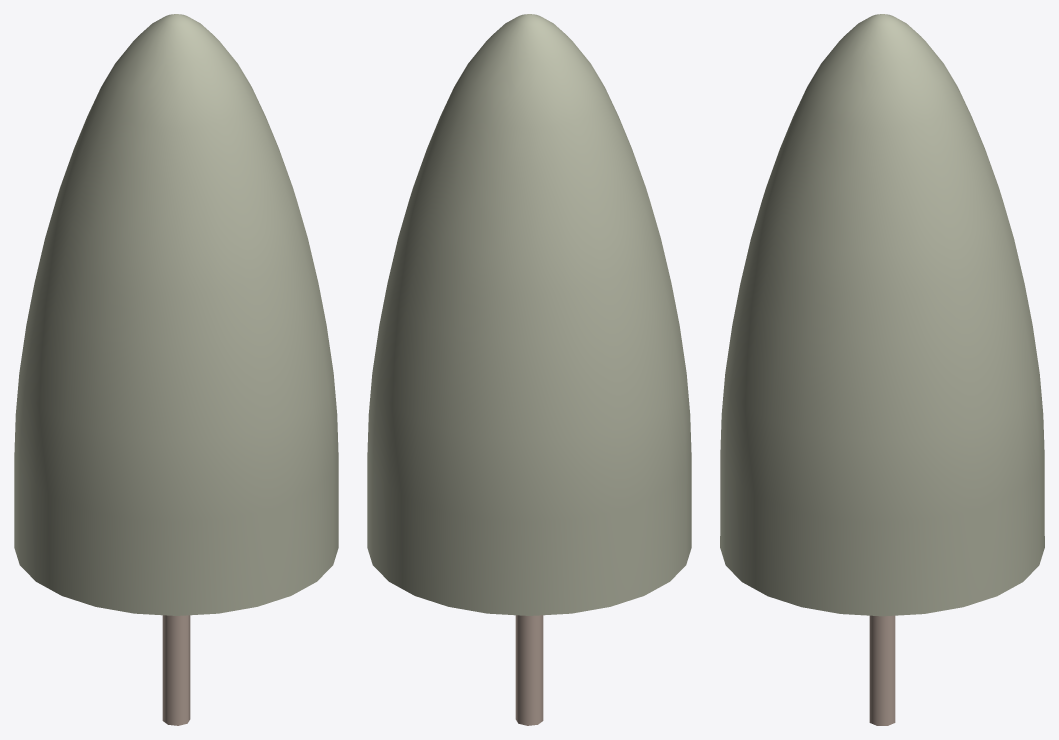
Rendered from SequoiadendronGiganteum.glb.
3 views of the same model, side by side, from view 1: azimuth 30°, elevation 25°; view 2: azimuth 150°, elevation 25°; view 3: azimuth 270°, elevation 25° (orthographic).
Visible parts, largest first — view 1: Giant_Sequoia__Schematic_LOD3; view 2: Giant_Sequoia__Schematic_LOD3; view 3: Giant_Sequoia__Schematic_LOD3.
Boxes of the visible parts, x1,y1,x2,y2 form: Giant_Sequoia__Schematic_LOD3: [14, 14, 338, 725]; Giant_Sequoia__Schematic_LOD3: [367, 14, 691, 725]; Giant_Sequoia__Schematic_LOD3: [720, 14, 1044, 725].
Bounding box in the file's own units: 25.92 × 62.23 × 25.92.
